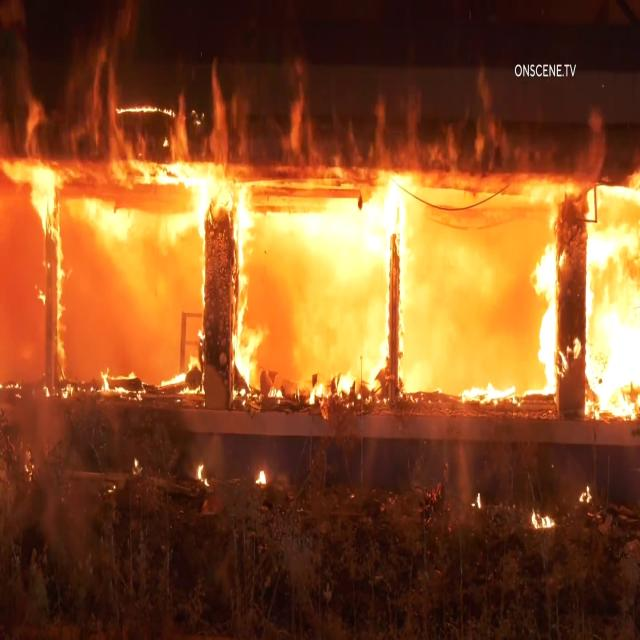fire: (3, 73, 501, 183), (594, 197, 640, 402)
